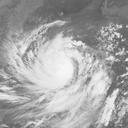cyclone: (11, 24, 76, 91)
